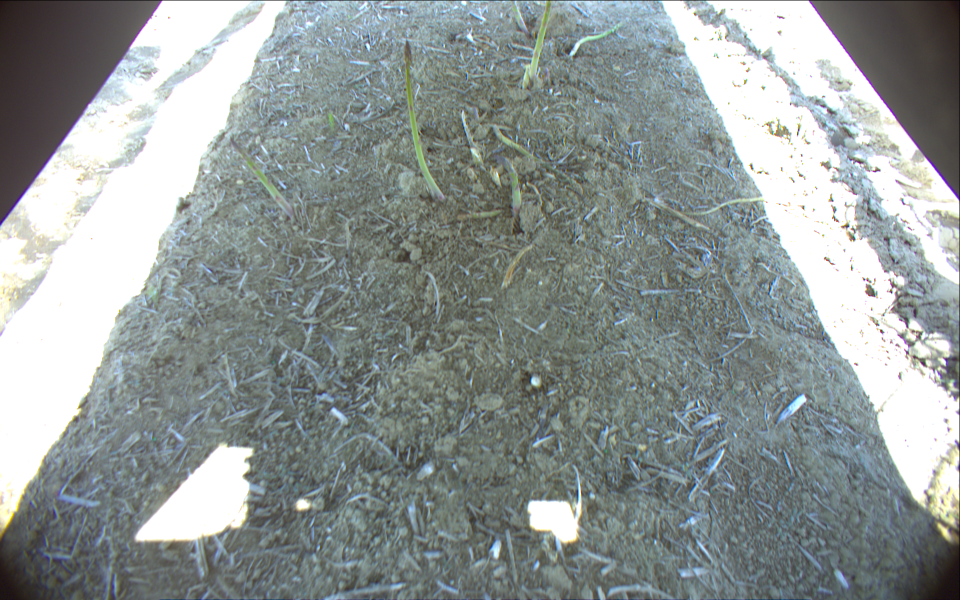aspa: (404, 39, 446, 206), (496, 122, 586, 194), (227, 137, 295, 218), (525, 1, 553, 85), (570, 21, 628, 56), (507, 161, 524, 221), (510, 1, 528, 32)
